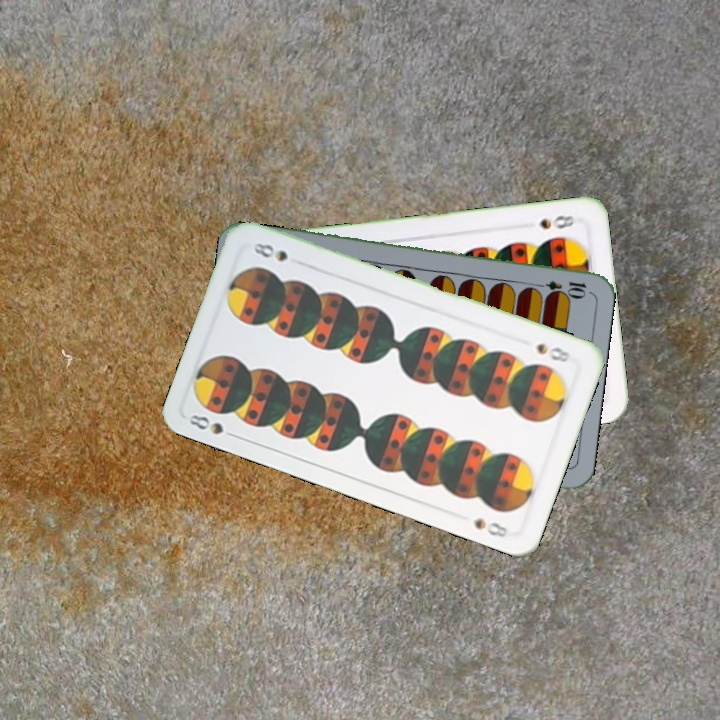E10: (530, 276, 589, 297)
S8: (185, 410, 242, 442), (532, 338, 573, 366), (535, 211, 582, 232)
